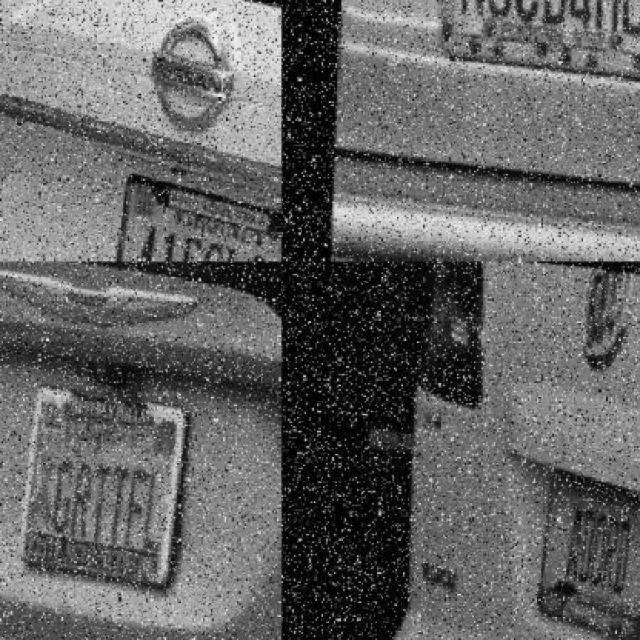licenseplate: (18, 380, 179, 585), (431, 0, 640, 117), (534, 466, 640, 637), (111, 167, 281, 261)
